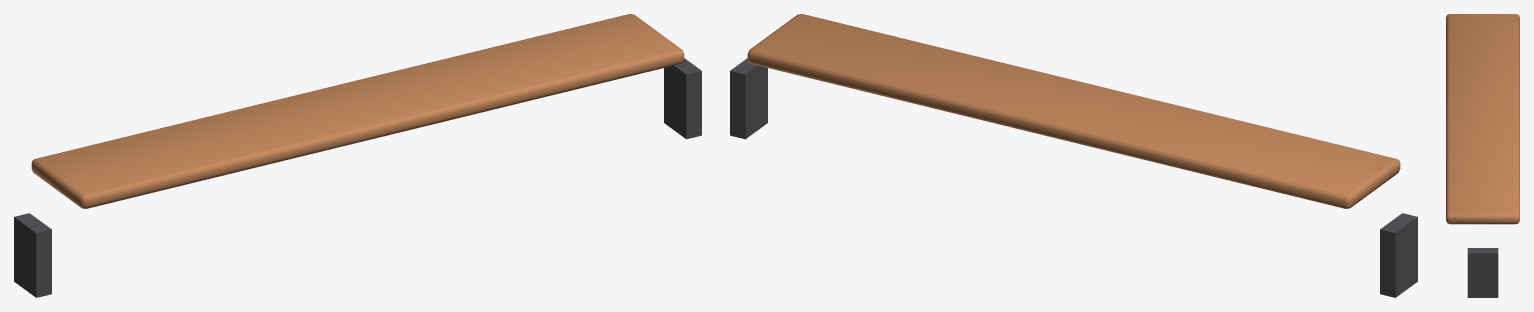
The model's file is sp-wing.glb.
The picture shows the model from 3 angles, left to right: view 1: azimuth 30°, elevation 25°; view 2: azimuth 150°, elevation 25°; view 3: azimuth 270°, elevation 25°; orthographic projection. The views are drawn at different scales.
Visible parts, largest first — view 1: sp-wing; view 2: sp-wing; view 3: sp-wing.
Boxes of the visible parts, x1,y1,x2,y2 form: sp-wing: (14, 14, 701, 297); sp-wing: (730, 14, 1417, 297); sp-wing: (1446, 14, 1519, 297).
Size of the model in its own units: 0.86 by 0.129 by 0.12.
